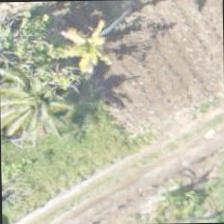Kelapa_Sawit: (37, 10, 129, 102)
